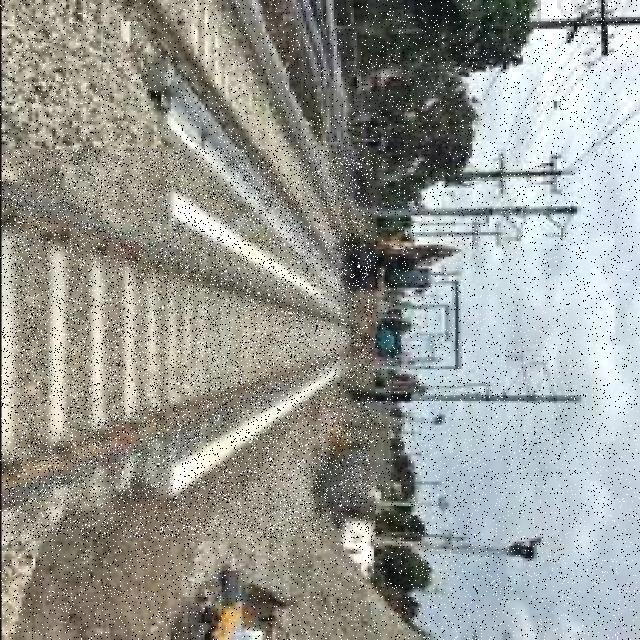rail: (3, 150, 372, 538), (84, 0, 351, 281)
